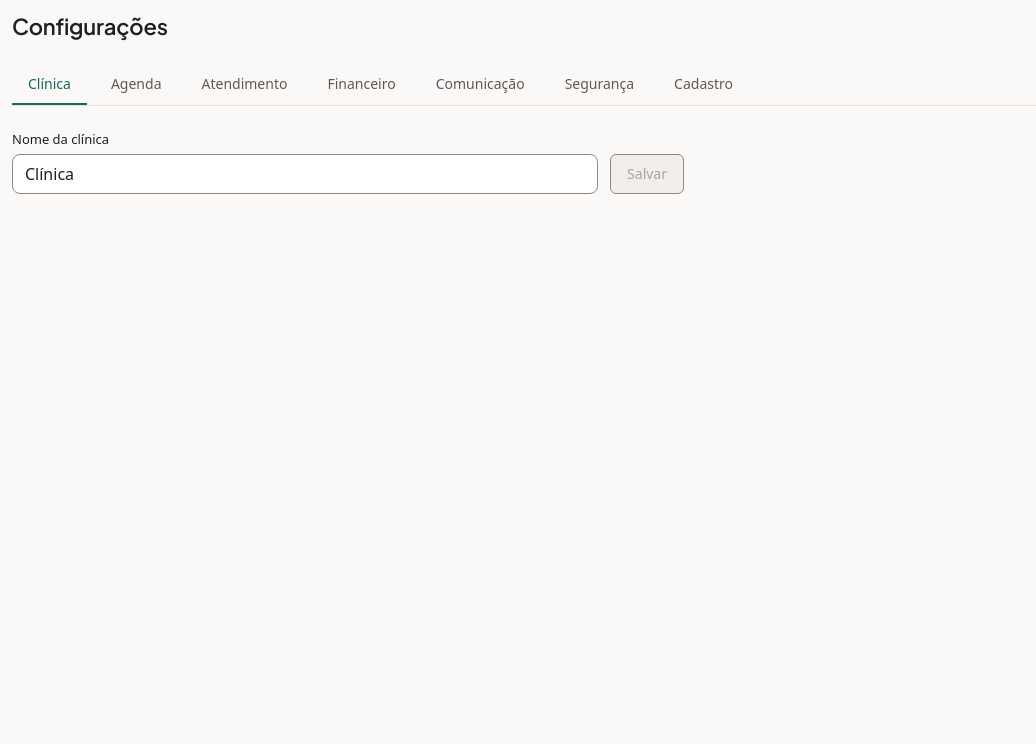
PaginaConfiguracoes — abas por grupo › deve destacar a conexão do WhatsApp como cartão com botão, não como link solto
Click the tab "Comunicação": click(480, 85) top-left (420, 65), bottom-right (541, 105)
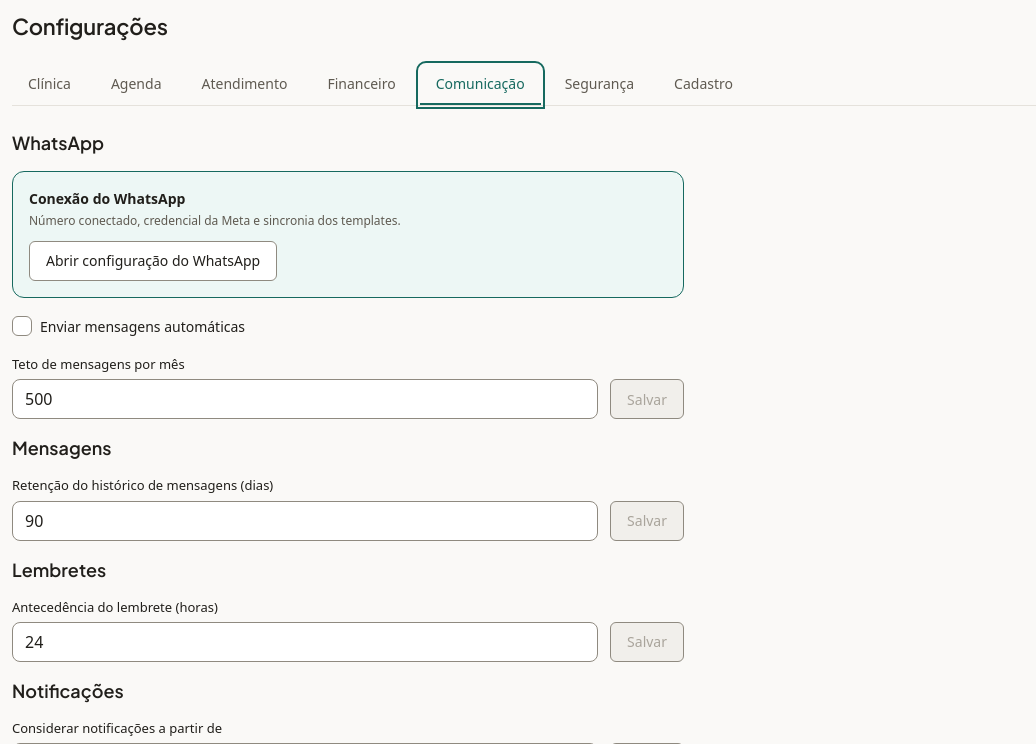
Expected: the text "Número conectado, credencial da Meta" is shown, top-left (29, 212), bottom-right (401, 229)
